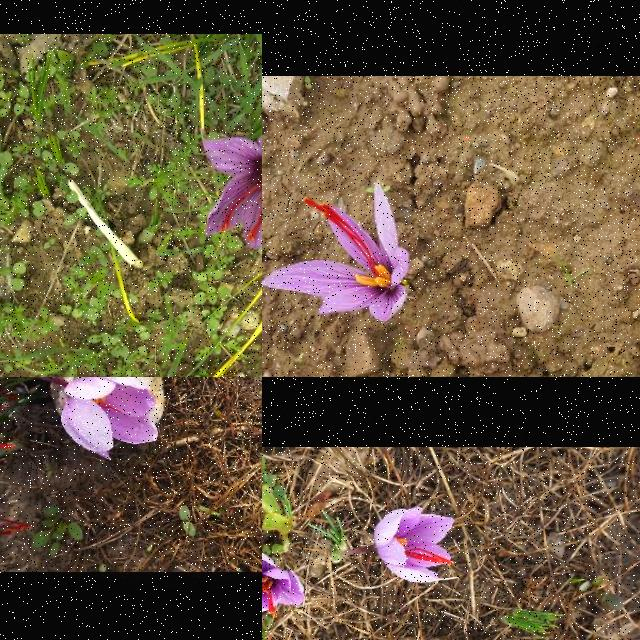flower: (262, 181, 411, 322), (202, 119, 262, 262), (61, 377, 157, 459), (373, 506, 455, 584), (0, 491, 34, 572), (262, 553, 305, 616)
overlap: (0, 377, 71, 473)
